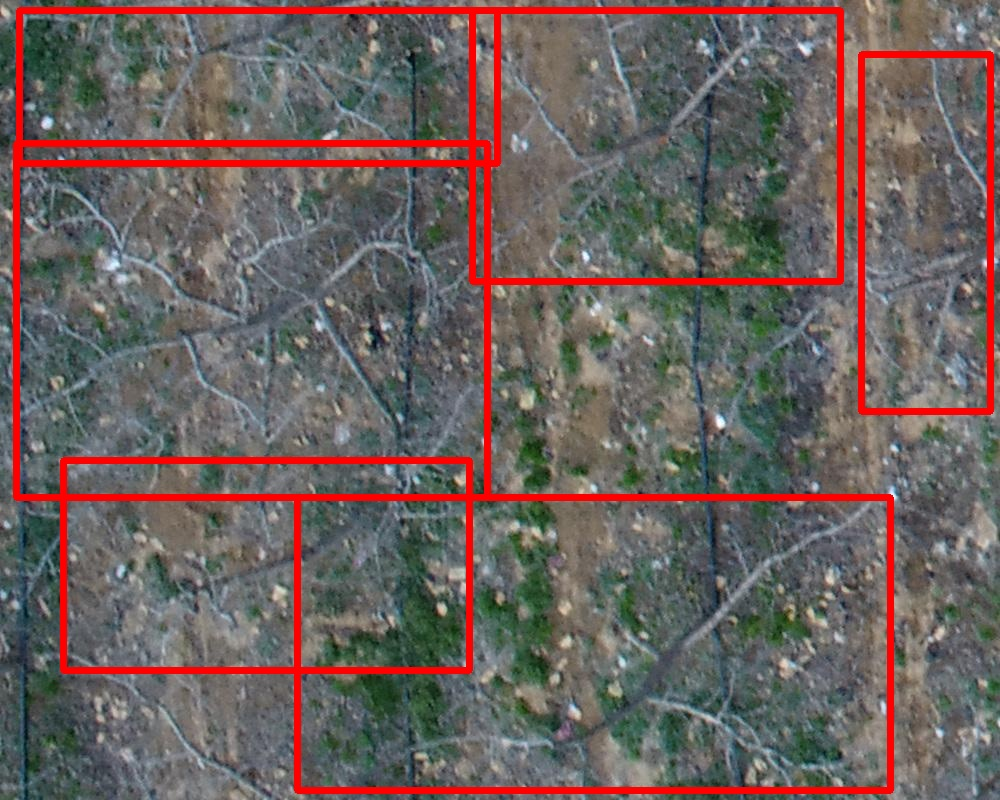apple: (297, 497, 890, 790), (16, 143, 487, 497), (472, 10, 840, 281), (63, 460, 469, 670), (19, 10, 497, 163), (861, 54, 990, 411)
